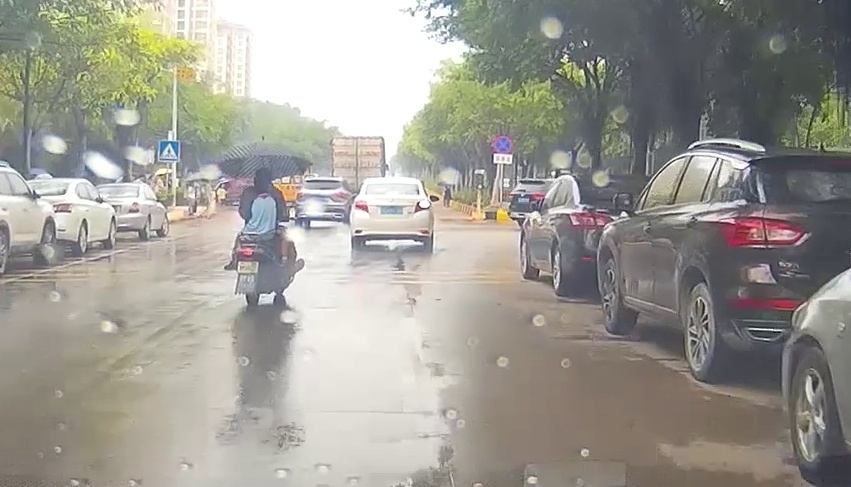L_light: (354, 200, 369, 214), (296, 192, 305, 203)
R_light: (413, 199, 431, 214), (331, 191, 348, 200)
T_light: (387, 192, 399, 194), (319, 180, 327, 181)
day-no: (295, 178, 349, 230)
day-right: (350, 177, 432, 253)
